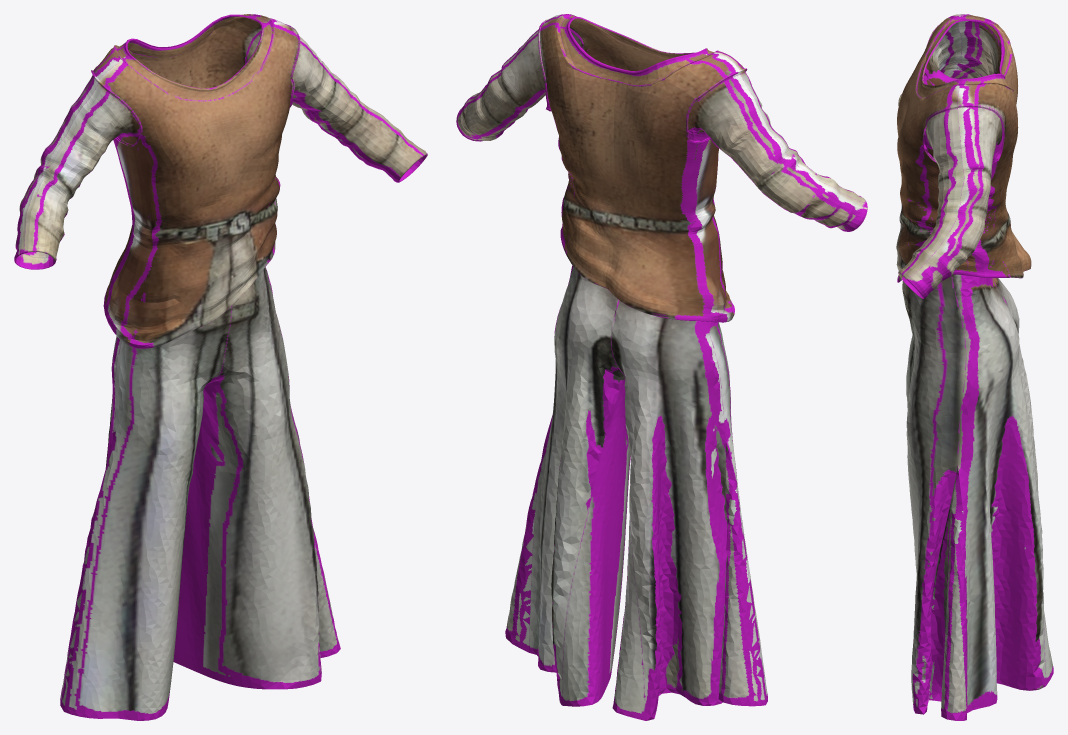
3 renders of one model, left to right at view 1: azimuth 30°, elevation 25°; view 2: azimuth 150°, elevation 25°; view 3: azimuth 270°, elevation 25°, orthographic. The views are drawn at different scales.
Bounding box in the file's own units: 0.6098 × 0.9287 × 0.2125.
1 material, 1 textured.
